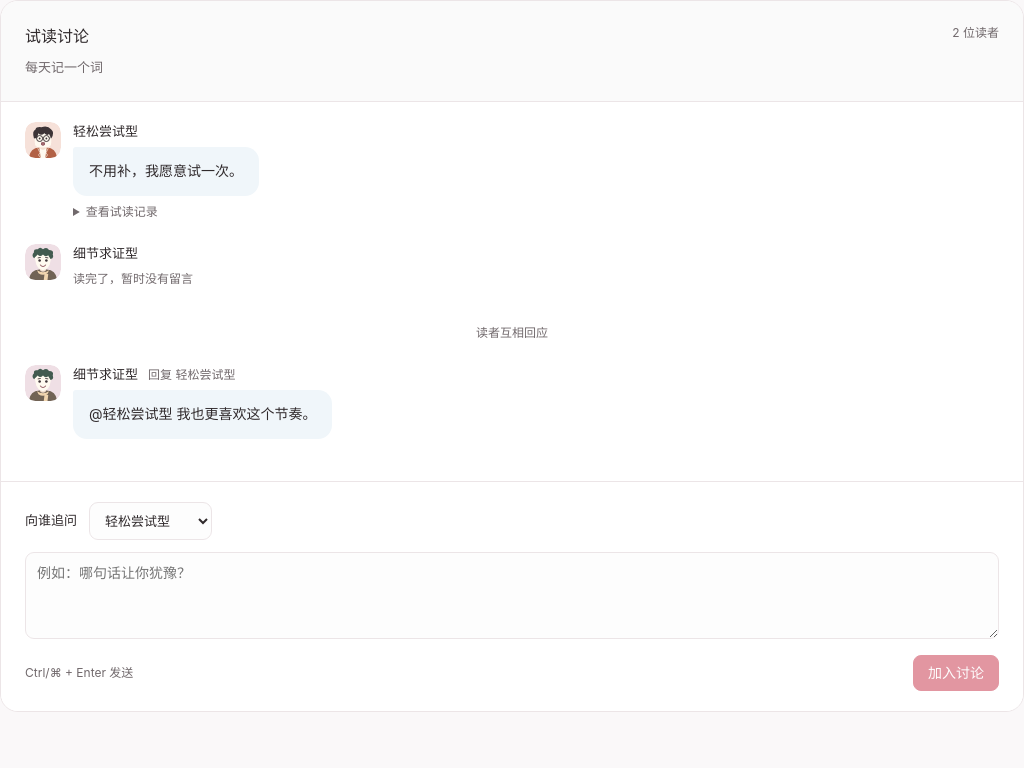
shows public dialogue, named replies and hidden reading notes without inventing comments
The width and height of the screenshot is (1024, 768).
Check: the text "不用补，我愿意试一次。" is shown, box [73,147,259,196]
Check: the text "回复 轻松尝试型" is shown, box [148,366,235,384]
Click the heading "查看试读记录". click: click(122, 211)
box: [86,204,158,219]
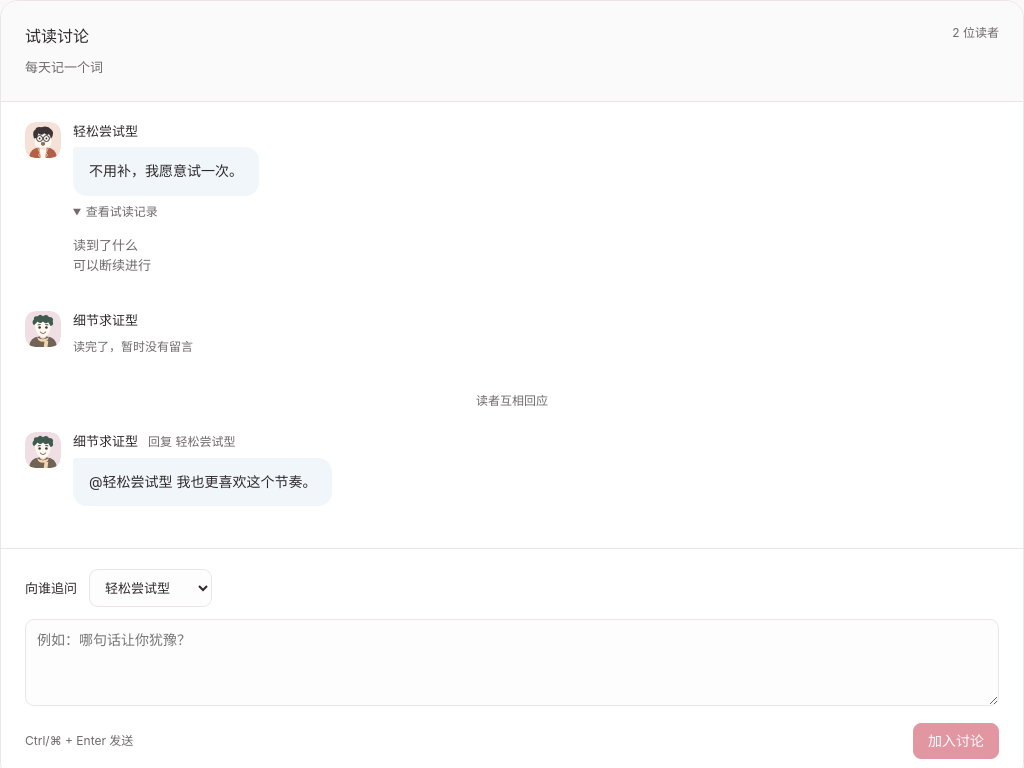
Check: the text "可以断续进行" is shown, box [73,257,151,273]
